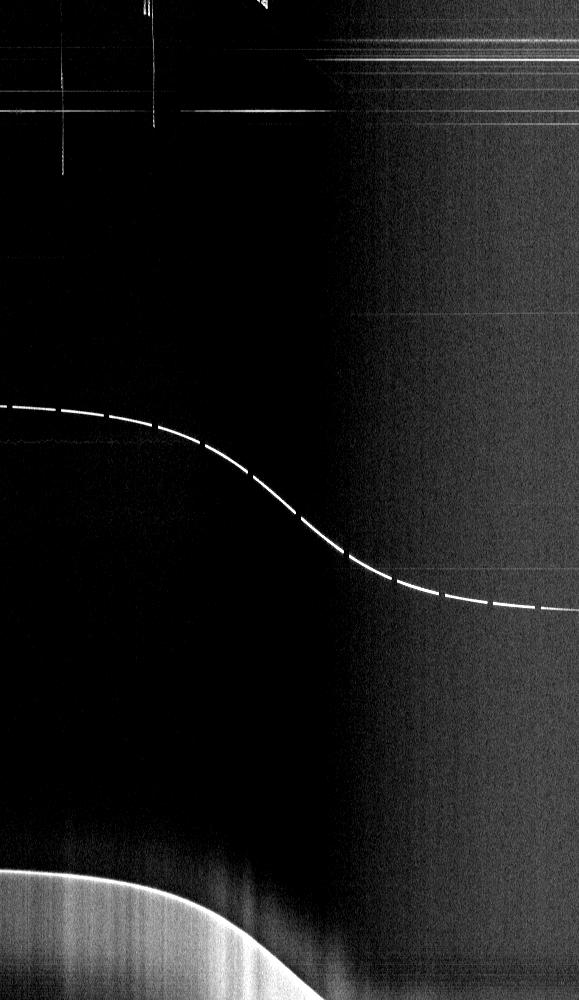signal: (0, 0, 578, 999)
